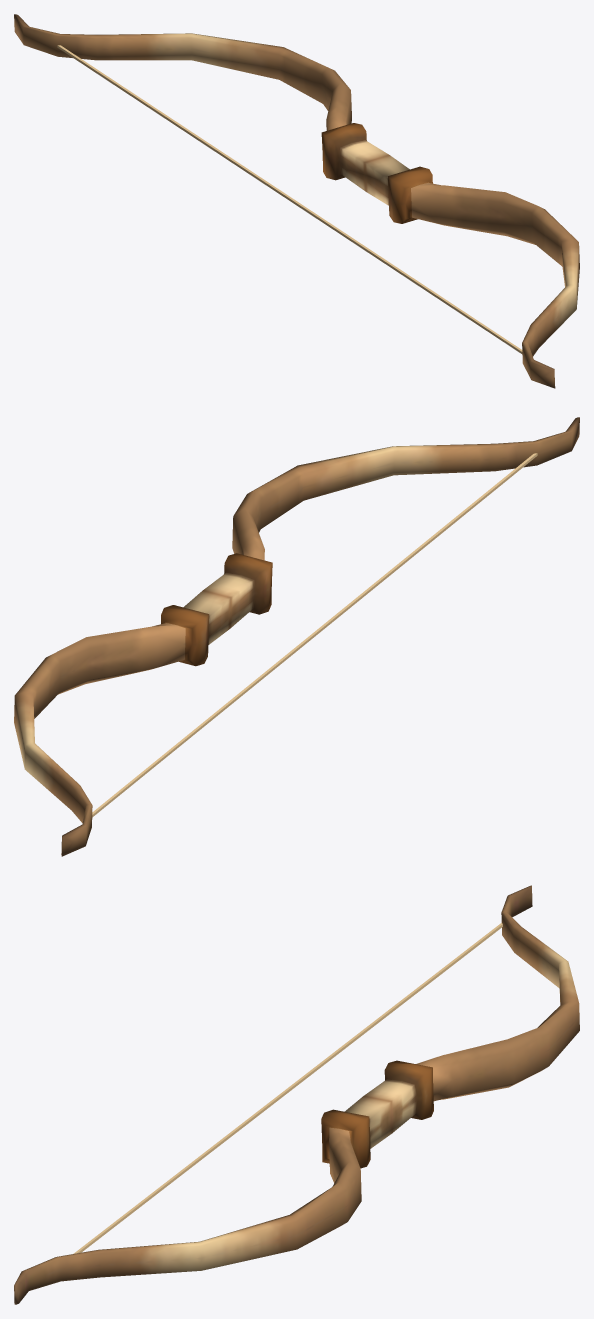
The model's file is BowFineWood.fbx.
The picture shows the model from 3 angles, top to bottom: view 1: azimuth 30°, elevation 25°; view 2: azimuth 150°, elevation 25°; view 3: azimuth 330°, elevation 25°; orthographic projection. The views are drawn at different scales.
Parts seen in each view (by area): view 1: FineWoodBow; view 2: FineWoodBow; view 3: FineWoodBow.
Part boxes in pixels (left/top/right/bottom): FineWoodBow: left=14, top=14, right=579, bottom=388; FineWoodBow: left=14, top=417, right=579, bottom=856; FineWoodBow: left=14, top=885, right=579, bottom=1304.
Bounding box in the file's own units: 0.3337 × 0.0837 × 1.58.
1 material, 1 textured.
